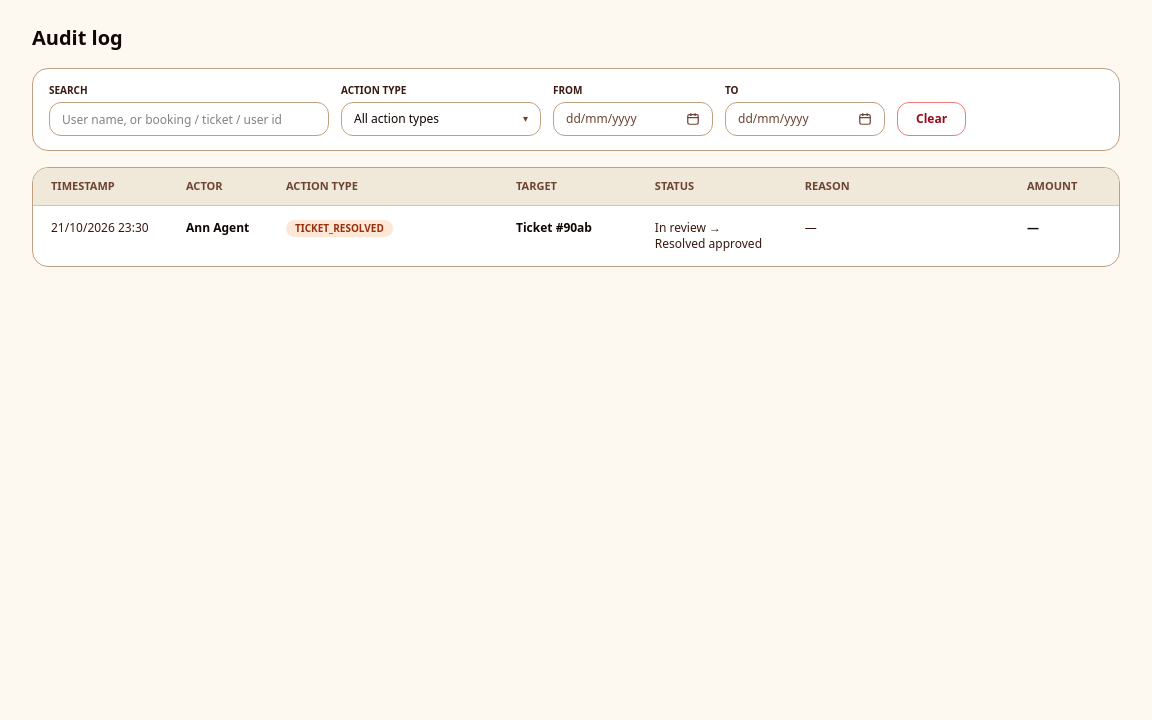
Test case: AuditLogView (F11, F15) › a changed filter replaces the list instead of appending (E49)
Click the button with aria-label "To" at (789, 119), box x1=726 y1=103 x2=852 y2=135
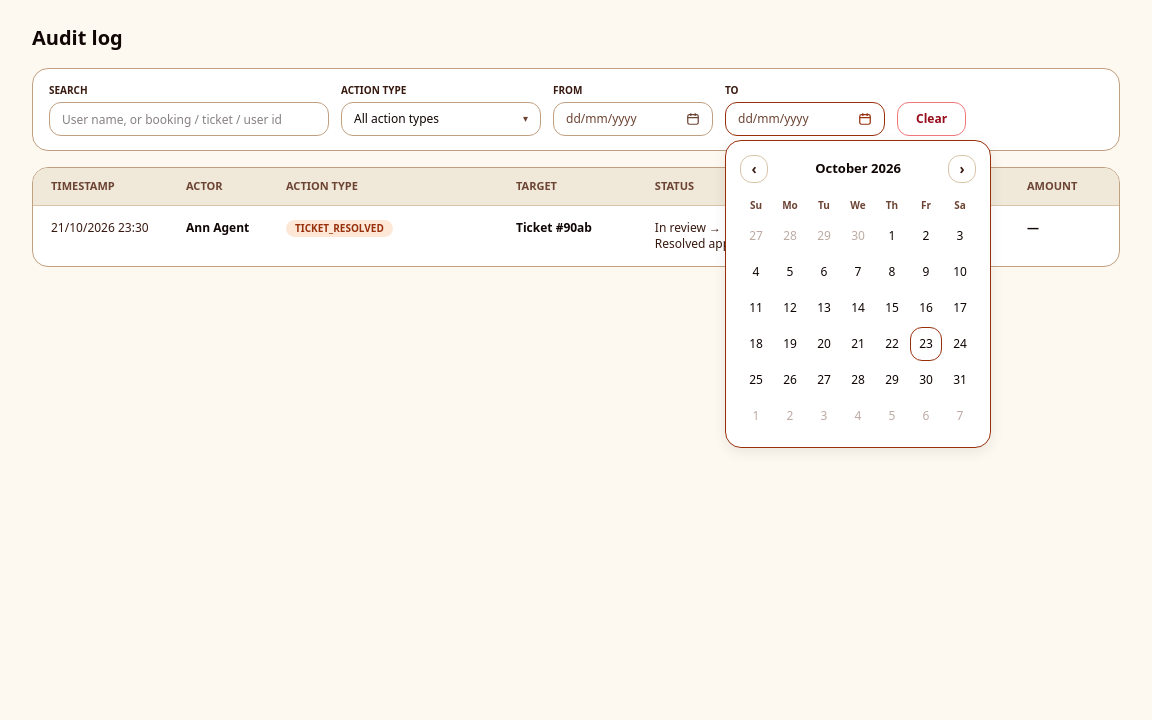
Click the button named "2026-10-28" at (858, 380), box x1=842 y1=363 x2=874 y2=397
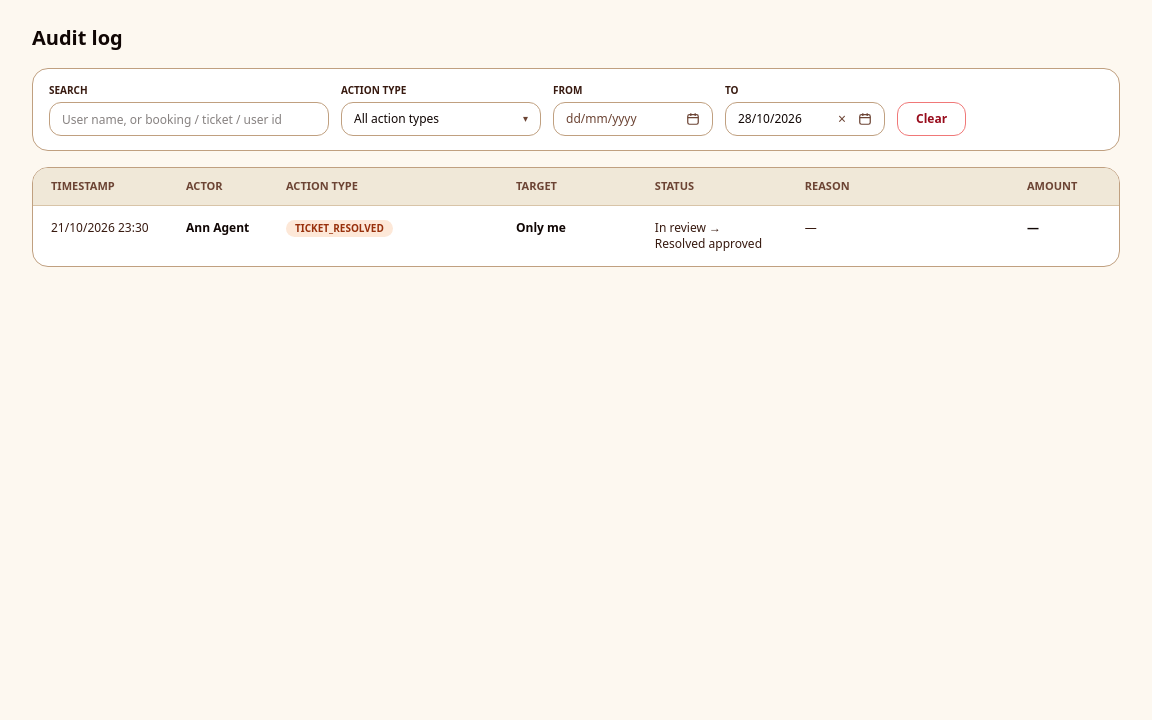
Expected: the number of rows is 2, x1=33 y1=168 x2=1119 y2=204; x1=33 y1=204 x2=1119 y2=266
Result: the text "Only me" is shown at x1=516 y1=218 x2=566 y2=236
